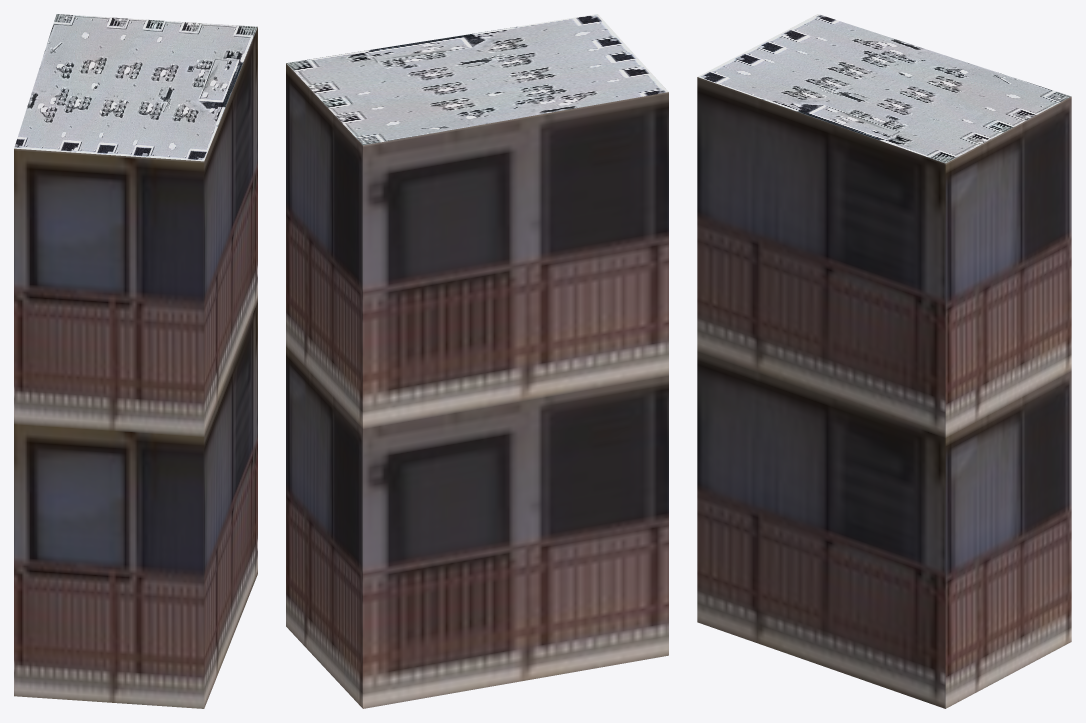
Rendered from ResTex__2924.fbx.
3 views of the same model, side by side, from view 1: azimuth 30°, elevation 25°; view 2: azimuth 150°, elevation 25°; view 3: azimuth 270°, elevation 25° (orthographic). The views are drawn at different scales.
Parts seen in each view (by area): view 1: CityEngineMaterial_6_m, CityEngineMaterial_4_m; view 2: CityEngineMaterial_6_m, CityEngineMaterial_4_m; view 3: CityEngineMaterial_6_m, CityEngineMaterial_4_m.
Part boxes in pixels (left/top/right/bottom): CityEngineMaterial_6_m: left=14, top=27, right=257, bottom=708; CityEngineMaterial_4_m: left=14, top=14, right=257, bottom=161; CityEngineMaterial_6_m: left=286, top=63, right=668, bottom=708; CityEngineMaterial_4_m: left=286, top=14, right=668, bottom=145; CityEngineMaterial_6_m: left=697, top=77, right=1071, bottom=708; CityEngineMaterial_4_m: left=698, top=14, right=1071, bottom=163.
Size of the model in its own units: 3.53 by 6 by 3.73.
Materials: 2 (2 with a texture image).
